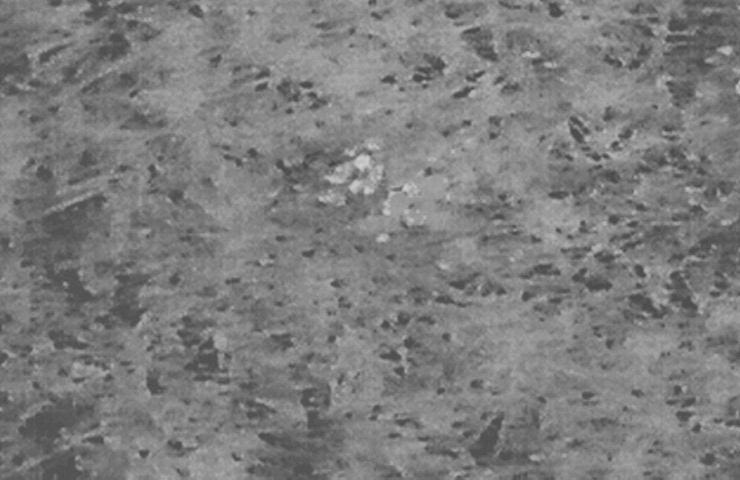landmines: (322, 132, 404, 202)
